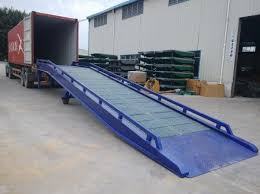Yard Ramp: (36, 58, 258, 178)
